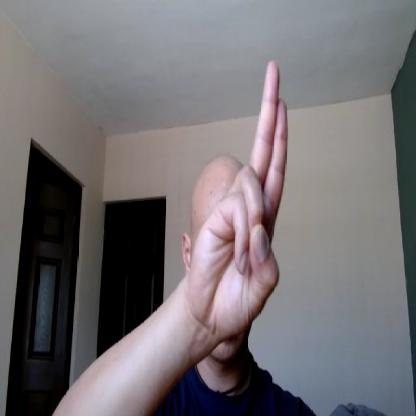U: (190, 58, 290, 331)
